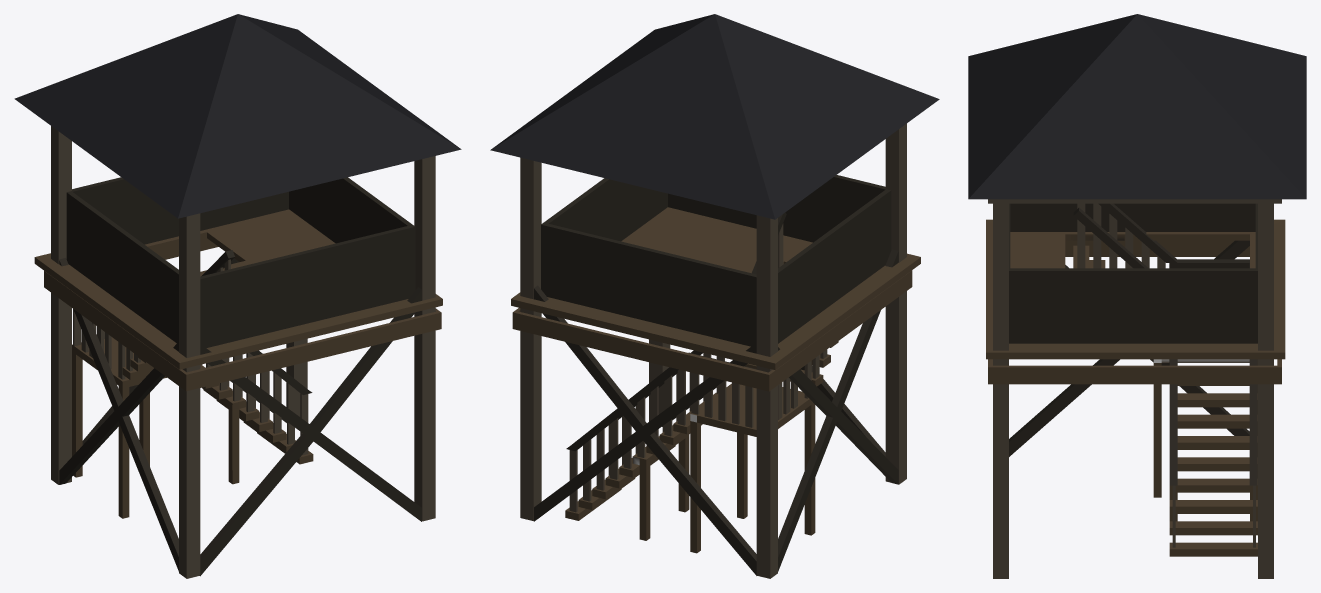
File: WatchTower_01.fbx
The picture shows the model from 3 angles, left to right: view 1: azimuth 30°, elevation 25°; view 2: azimuth 150°, elevation 25°; view 3: azimuth 270°, elevation 25°; orthographic projection. The views are drawn at different scales.
Parts seen in each view (by area): view 1: WatchTower_01; view 2: WatchTower_01; view 3: WatchTower_01.
Part boxes in pixels (x1,y1,x2,y2): WatchTower_01: [14, 14, 461, 578]; WatchTower_01: [490, 14, 939, 578]; WatchTower_01: [968, 14, 1306, 578].
Size of the model in its own units: 4.22 by 6.89 by 4.22.
